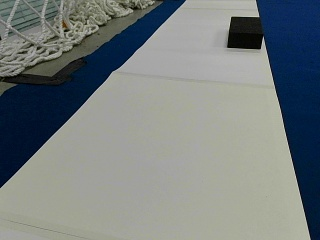block: (228, 16, 263, 48)
